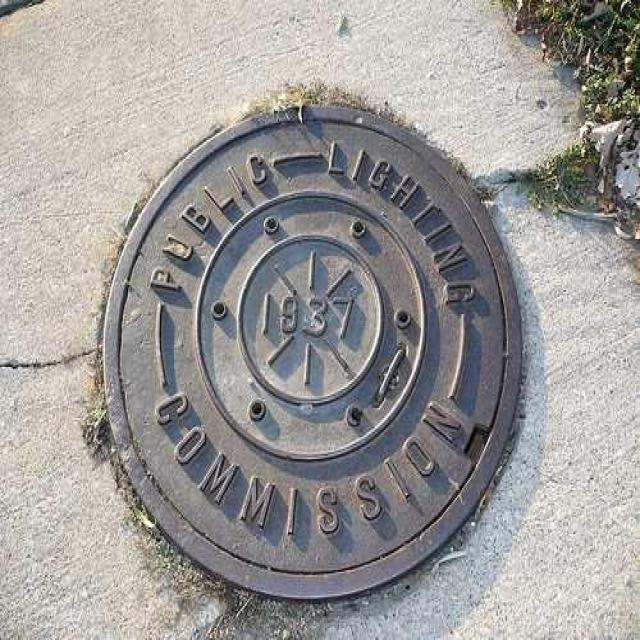manhole: (99, 104, 529, 606)
